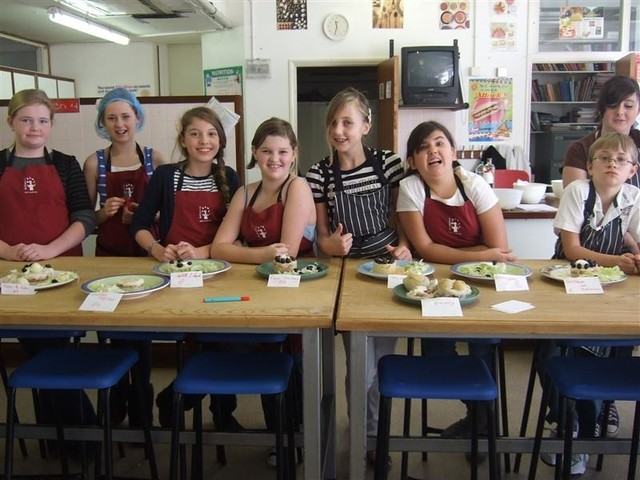face_no_mask: (402, 121, 456, 182), (323, 89, 372, 154), (250, 117, 297, 178), (7, 88, 52, 148), (587, 134, 634, 191), (594, 74, 639, 132), (176, 107, 223, 160), (97, 93, 139, 146)
